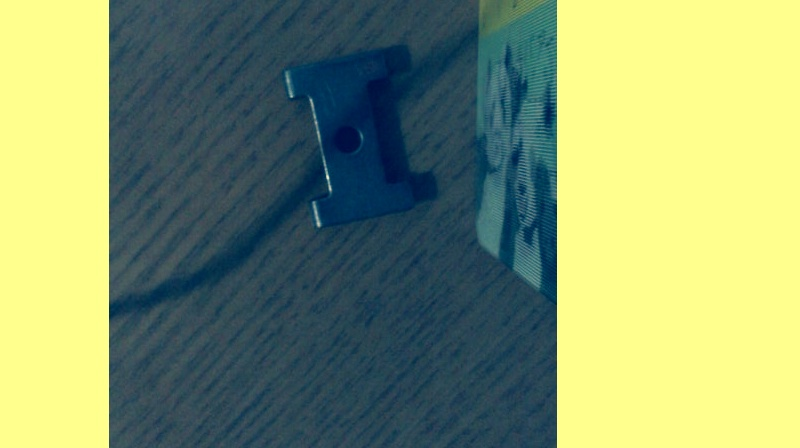O002: (281, 48, 418, 232)
